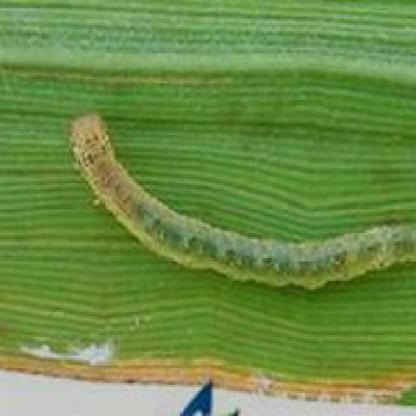leaf-folder: (67, 103, 416, 295)
